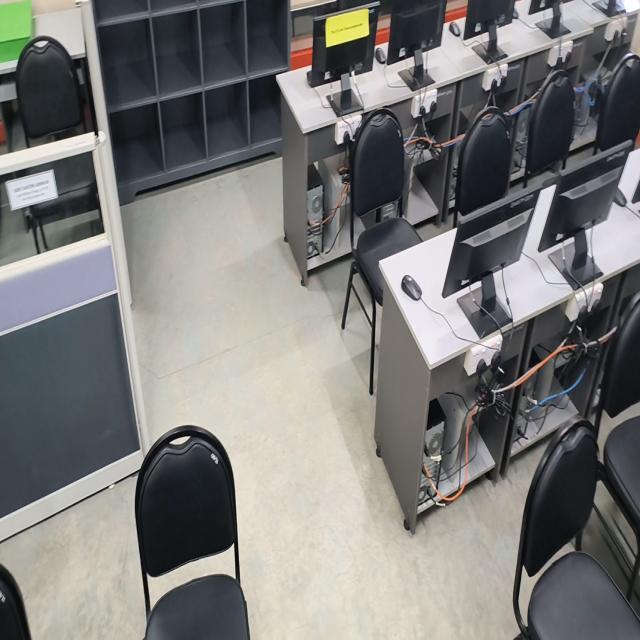Chair: (518, 416, 634, 640), (139, 416, 251, 640), (350, 114, 418, 274), (608, 302, 640, 561), (17, 40, 82, 144), (524, 70, 578, 177), (461, 98, 509, 194), (599, 57, 640, 136)
Cpu: (418, 398, 446, 504), (306, 162, 324, 264)
Monitor: (442, 191, 541, 338), (538, 141, 627, 287), (311, 2, 379, 108), (389, 0, 446, 93), (466, 0, 514, 65), (526, 0, 566, 39)
Mouse: (398, 272, 424, 305), (449, 19, 461, 41), (376, 45, 387, 68)
